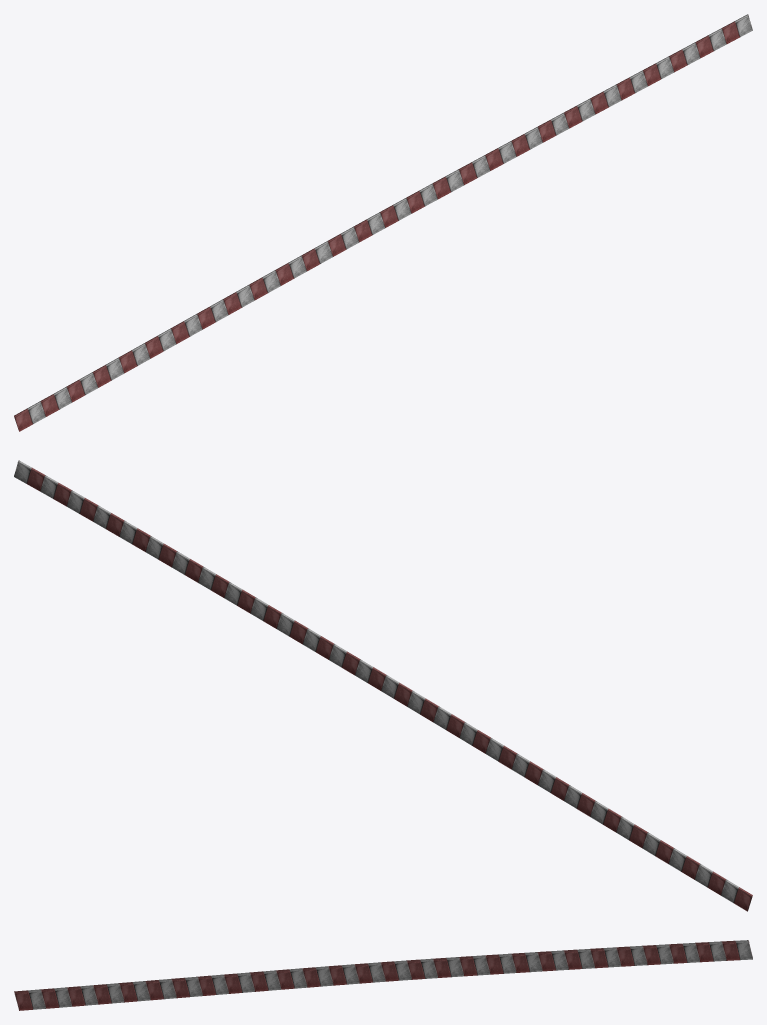
The model's file is _1KERB_01_04_Scene.232.obj.
3 views of the same model, one above another, from view 1: azimuth 30°, elevation 25°; view 2: azimuth 150°, elevation 25°; view 3: azimuth 330°, elevation 25° (orthographic). The views are drawn at different scales.
Parts seen in each view (by area): view 1: _1KERB_01_04_Scene.232; view 2: _1KERB_01_04_Scene.232; view 3: _1KERB_01_04_Scene.232.
Part boxes in pixels (x1,y1,x2,y2): _1KERB_01_04_Scene.232: [14, 14, 752, 431]; _1KERB_01_04_Scene.232: [14, 460, 752, 911]; _1KERB_01_04_Scene.232: [14, 940, 752, 1010].
Size of the model in its own units: 53.86 by 17.87 by 1.68.
